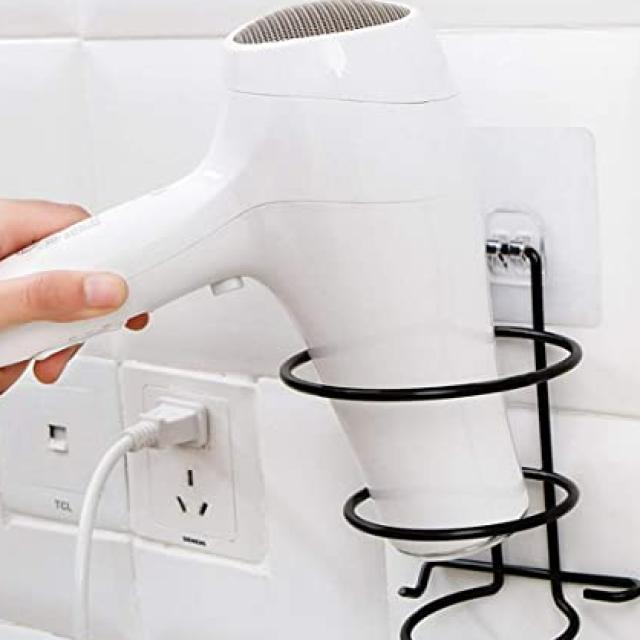dryer: (0, 0, 547, 591)
